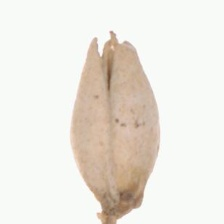L1: (88, 29, 127, 84), (93, 187, 145, 224)
L2: (69, 31, 161, 224)
